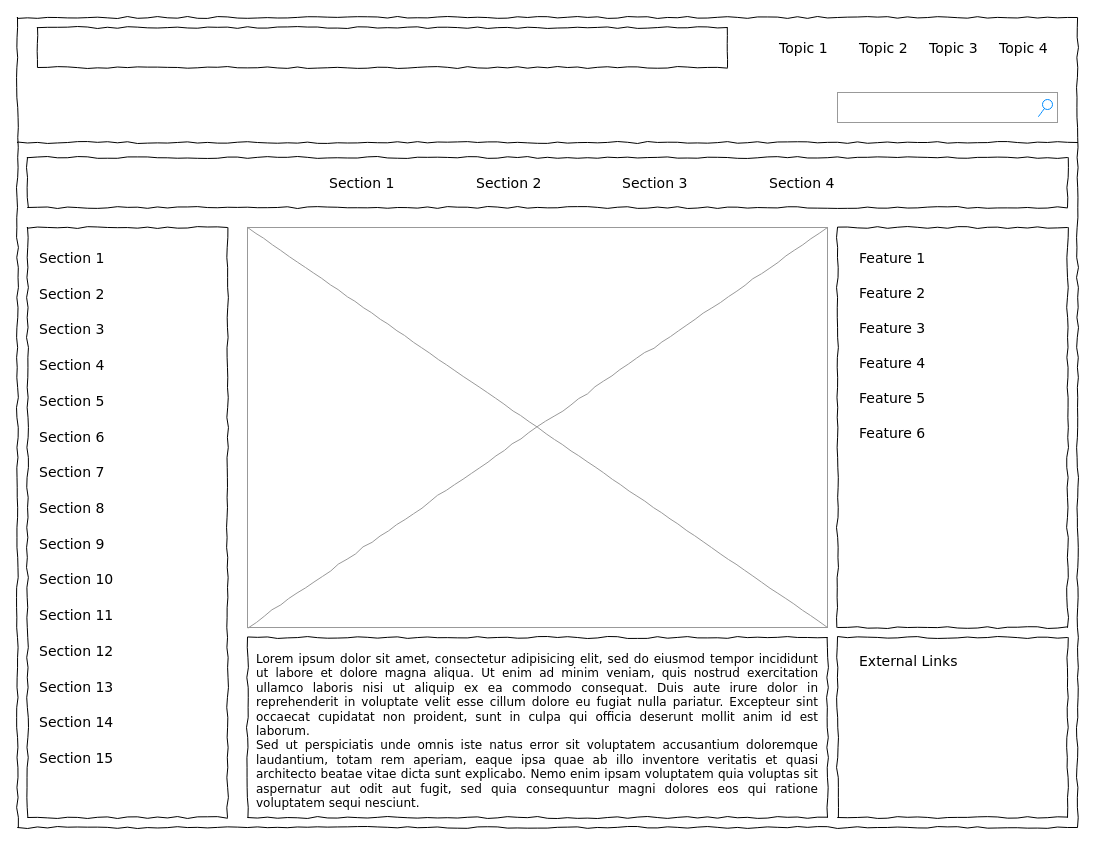
Some shapes in this 1095 by 845 pixel diagram are drawn without their labels. Here are the shapes that lost their labels. From the top down, the box of each, then its label:
(36, 26, 728, 68): CookBook
(836, 92, 1058, 122): Search
